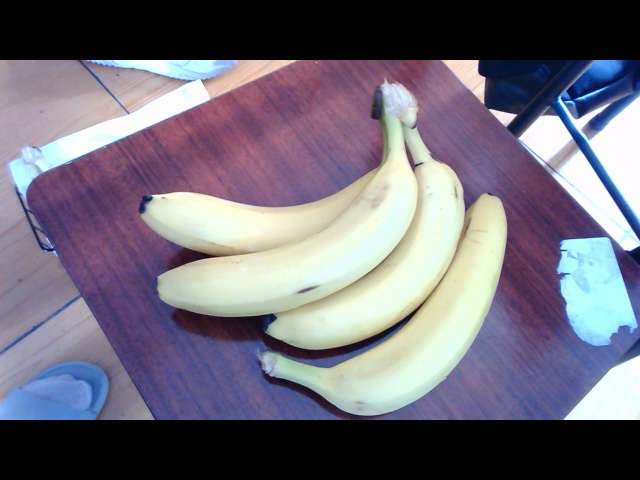banana: (145, 128, 533, 415)
